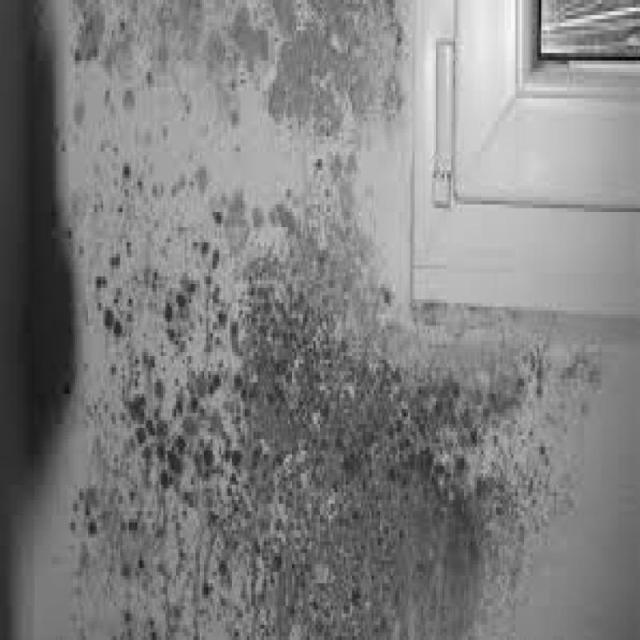stain marks: (51, 0, 602, 636)
